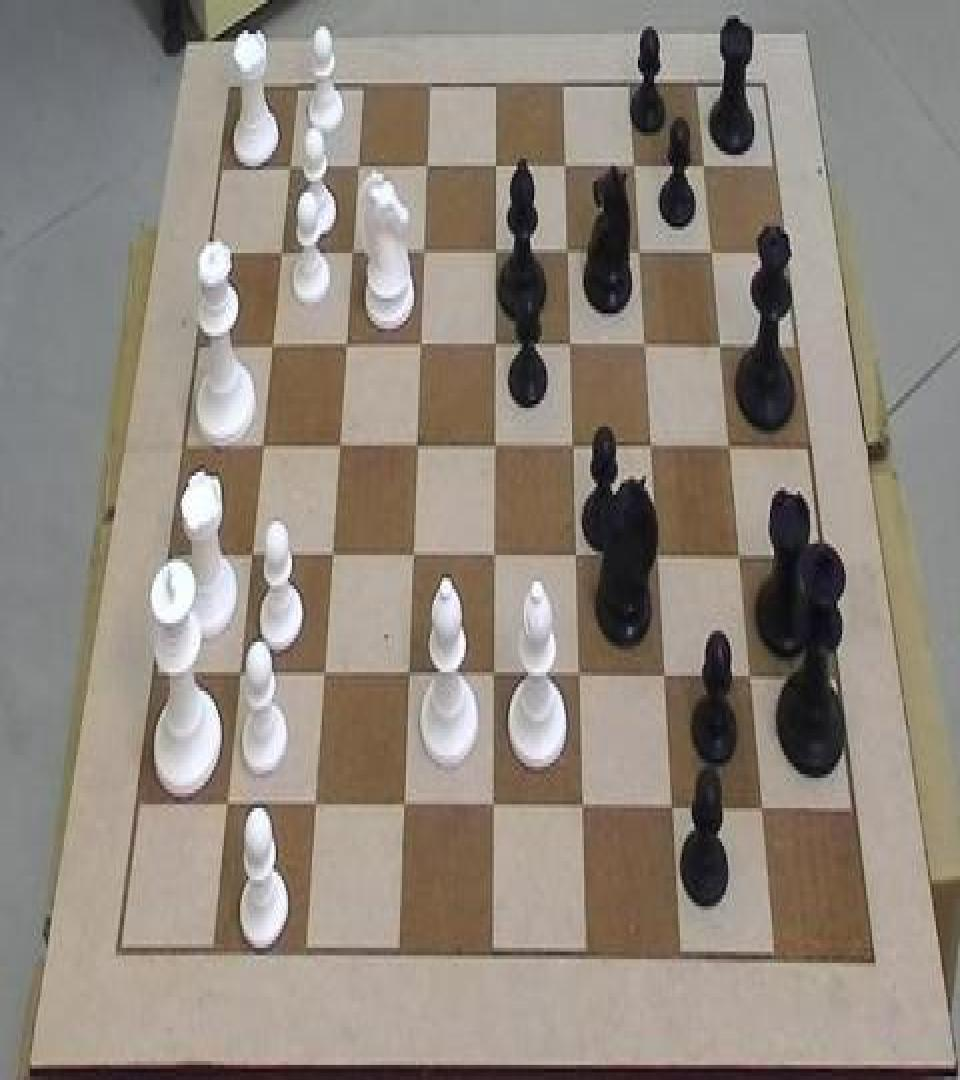xcorner: (694, 146, 714, 184), (623, 146, 643, 184), (554, 147, 574, 185), (484, 147, 504, 185), (414, 147, 434, 185), (345, 149, 365, 187), (276, 149, 296, 187), (702, 232, 722, 270), (629, 232, 649, 270), (556, 232, 576, 270), (484, 232, 504, 270), (412, 234, 432, 272), (340, 234, 360, 272), (268, 234, 288, 272), (710, 324, 730, 362), (634, 324, 654, 362), (559, 326, 579, 364), (483, 326, 503, 364), (408, 326, 428, 364), (334, 326, 354, 364), (259, 326, 279, 364), (720, 426, 740, 464), (640, 426, 660, 464), (562, 426, 582, 464), (483, 426, 503, 464), (405, 426, 425, 464), (327, 428, 347, 466), (249, 428, 269, 466), (730, 536, 750, 574), (647, 536, 667, 574), (565, 536, 585, 574), (483, 536, 503, 574), (401, 536, 421, 574), (320, 536, 340, 574), (239, 538, 259, 576), (741, 657, 761, 695), (654, 657, 674, 695), (568, 657, 588, 695), (483, 657, 503, 695), (397, 657, 417, 695), (312, 657, 332, 695), (227, 657, 247, 695), (753, 789, 773, 827), (662, 789, 682, 827), (572, 789, 592, 827), (482, 789, 502, 827), (393, 787, 413, 825), (303, 787, 323, 825), (215, 787, 235, 825)
